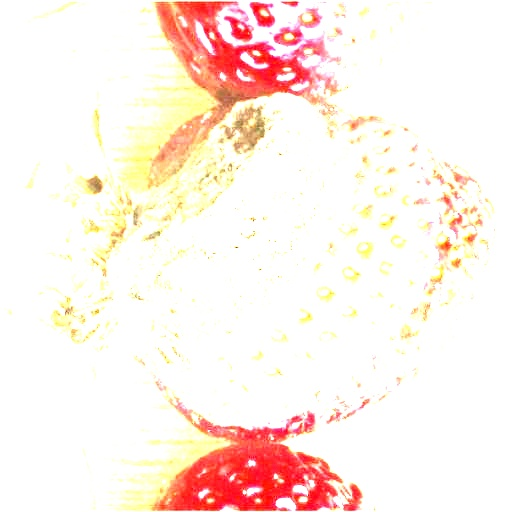Gray Mold: (72, 93, 505, 432), (299, 0, 450, 99)
